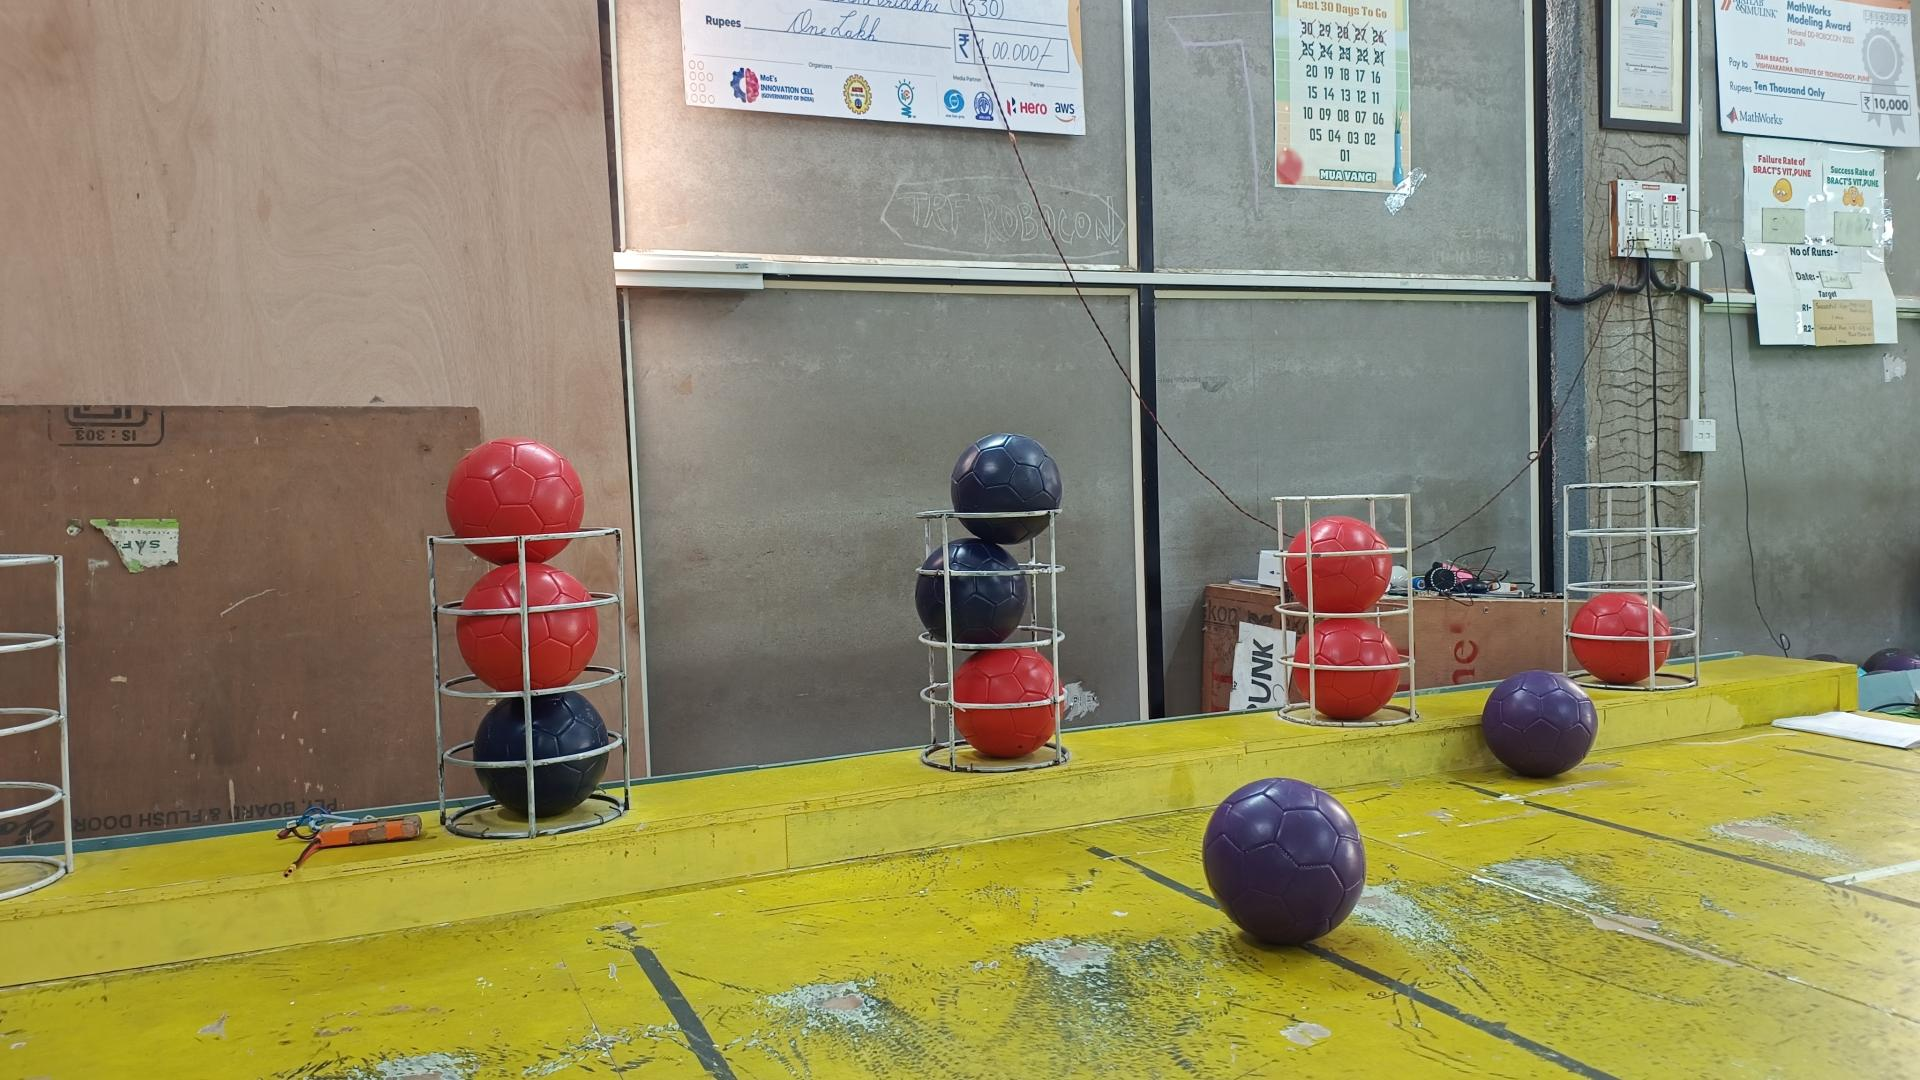dhoka: (472, 694, 612, 822), (948, 435, 1062, 547), (915, 537, 1027, 645)
laale: (458, 563, 600, 694), (446, 439, 585, 566), (948, 649, 1062, 757), (1294, 618, 1399, 720), (1286, 517, 1391, 615), (1572, 592, 1672, 686)
